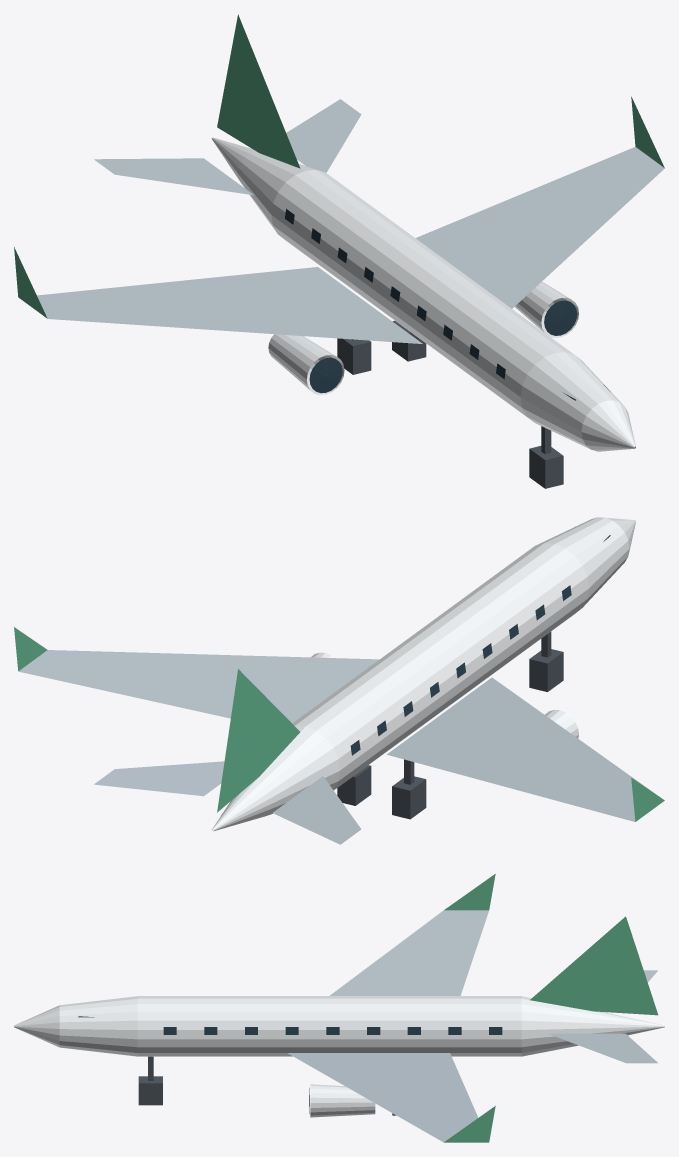
File: regional-ETH.gltf
3 views of the same model, one above another, from view 1: azimuth 30°, elevation 25°; view 2: azimuth 150°, elevation 25°; view 3: azimuth 270°, elevation 25° (orthographic). The views are drawn at different scales.
Visible parts, largest first — view 1: object 1, Gear; view 2: object 1, Gear; view 3: object 1, Gear.
Boxes of the visible parts, left/top/right/bottom form: object 1: left=14, top=14, right=664, bottom=451; Gear: left=337, top=320, right=563, bottom=488; object 1: left=14, top=517, right=664, bottom=844; Gear: left=337, top=631, right=563, bottom=819; object 1: left=14, top=874, right=664, bottom=1142; Gear: left=138, top=1056, right=395, bottom=1115.
Bounding box in the file's own units: 27 × 10.08 × 32.
